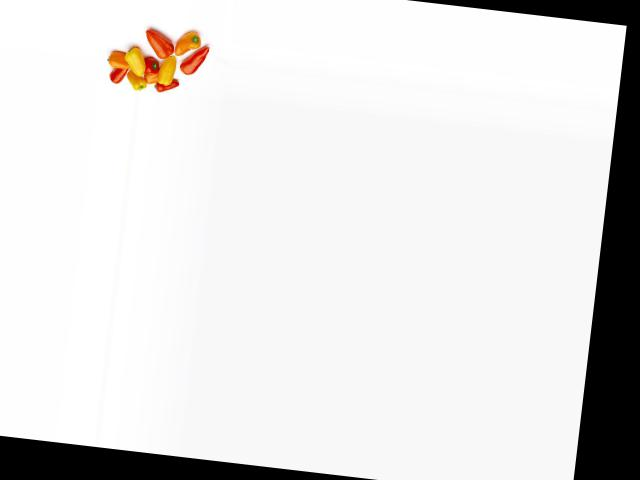bell_pepper: (152, 79, 182, 95)
